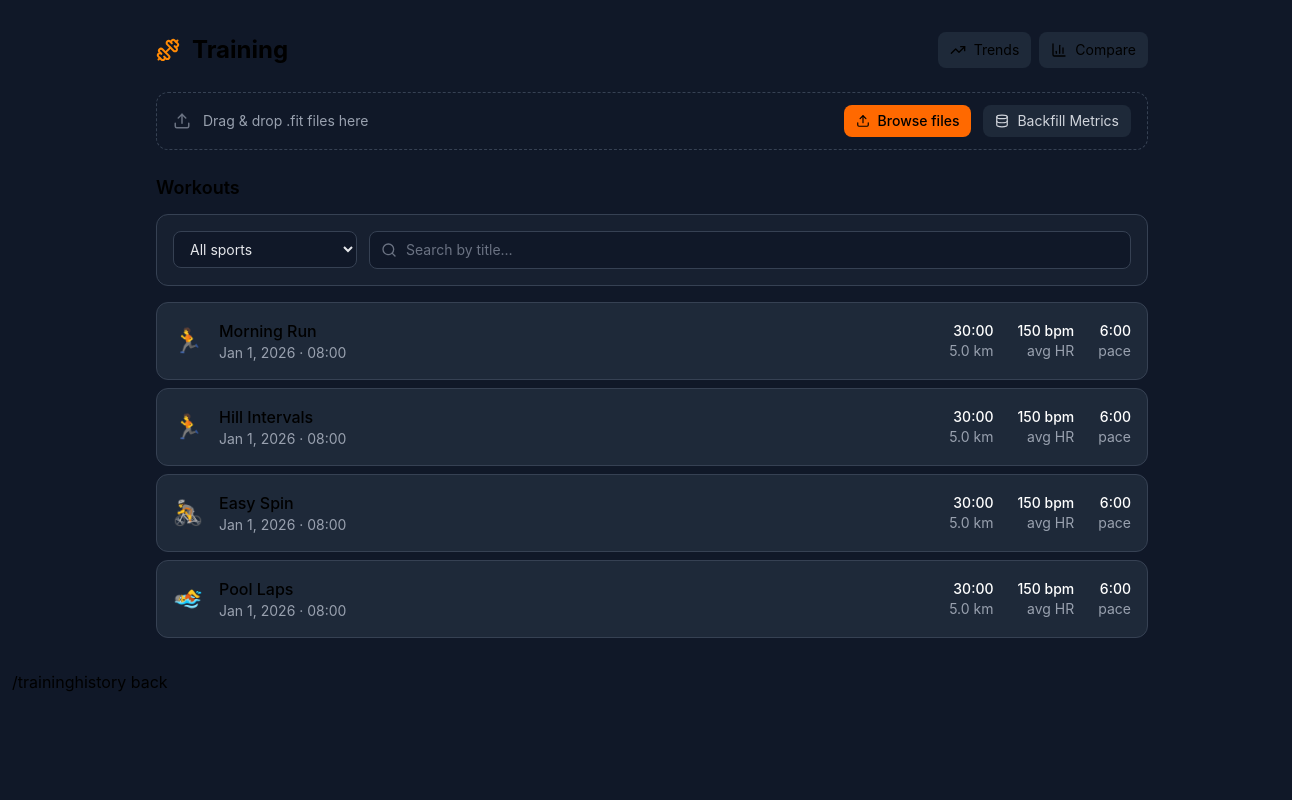
Training filter bar › combines sport + query filters with AND in one request
This screenshot has width=1292, height=800.
expect the text "Morning Run" is shown: met, box [219,321,317,341]
Select "running" in the dropdown named "Filter by sport". click: (265, 250)
box: [173,231,357,268]
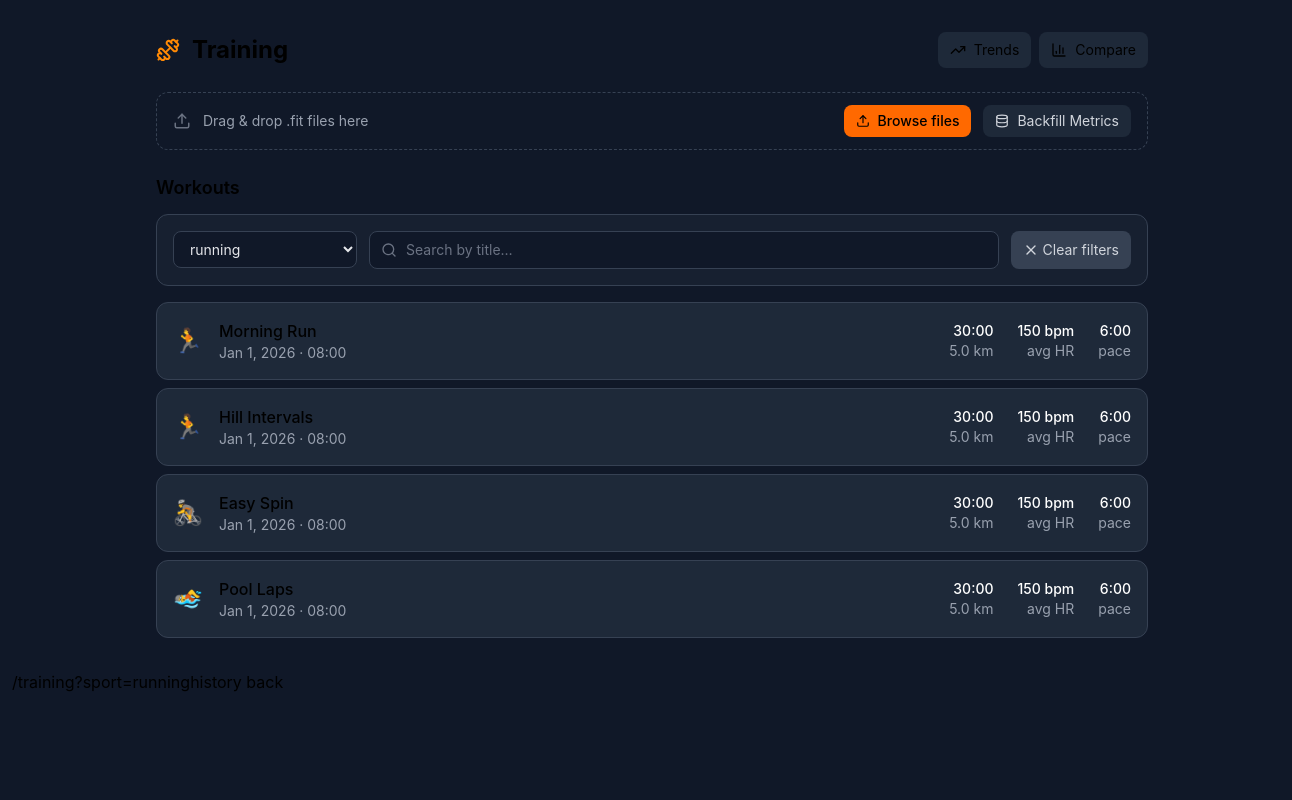
Type "morning" into the field with placeholder "Search by title…". click: (684, 250)
box: [369,231,999,269]
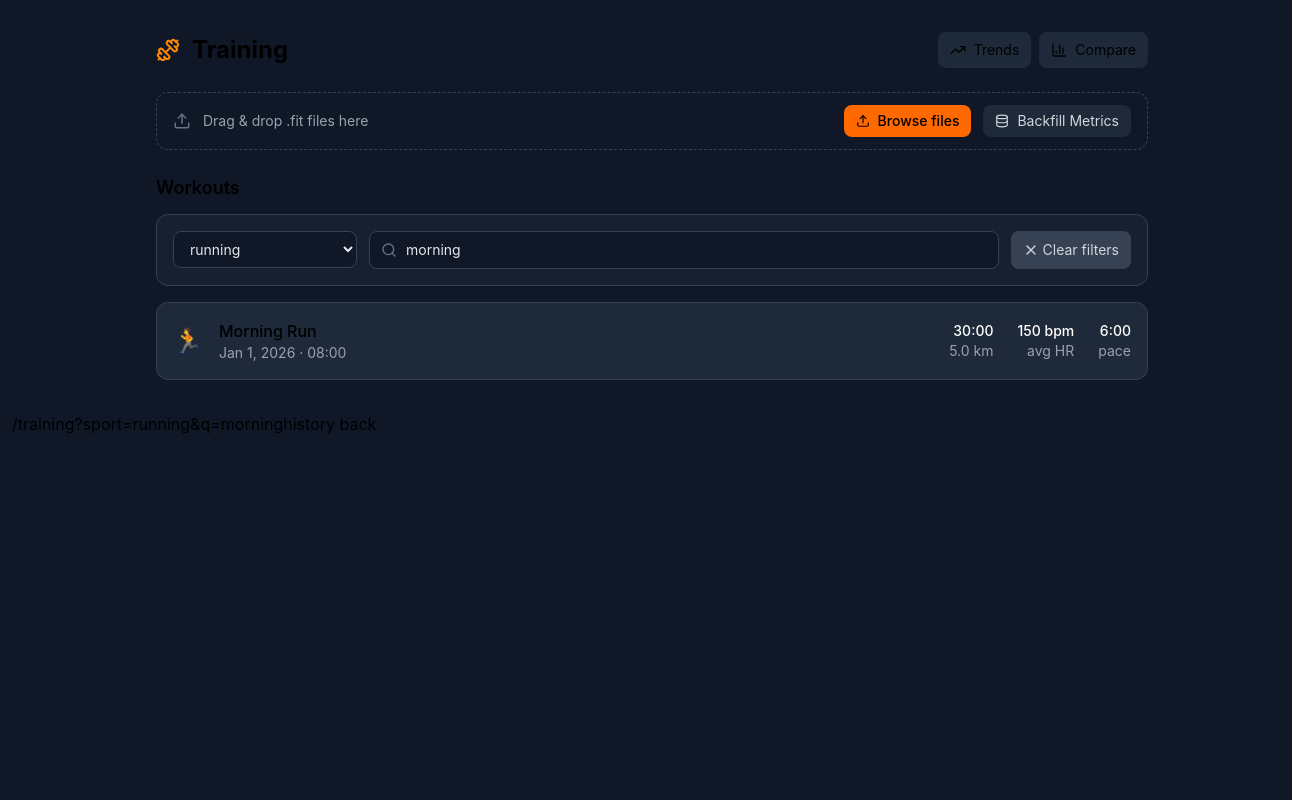
expect the text "Morning Run" is shown: met, box [219,321,317,341]
expect the link "Hill Intervals" is gone: met
expect the link "Easy Spin" is gone: met
